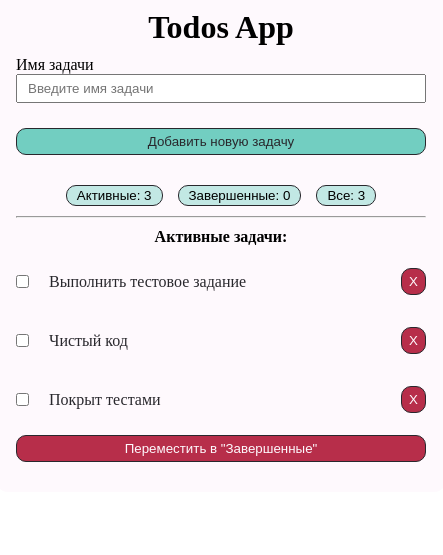
Test: TodosContent component › checking tasks after preccing buttons: All, Active, Completed
Expected: the number of checkboxes is 3, [16,275,29,288]; [16,334,29,347]; [16,393,29,406]
Click the button "Все: 3": (346, 196) [316,185,376,206]
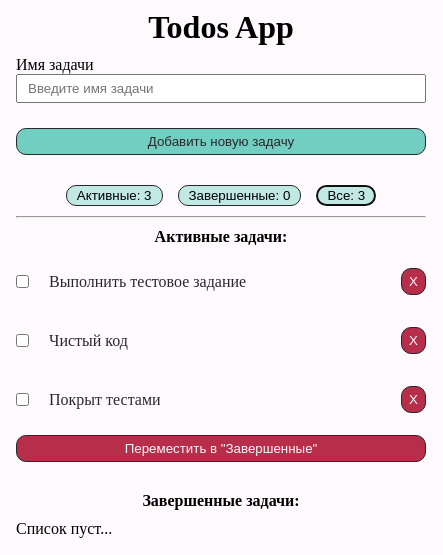
Expected: the number of checkboxes is 3, [16,275,29,288]; [16,334,29,347]; [16,393,29,406]
Click the button "Завершенные: 0": (239, 196) [178,185,301,206]
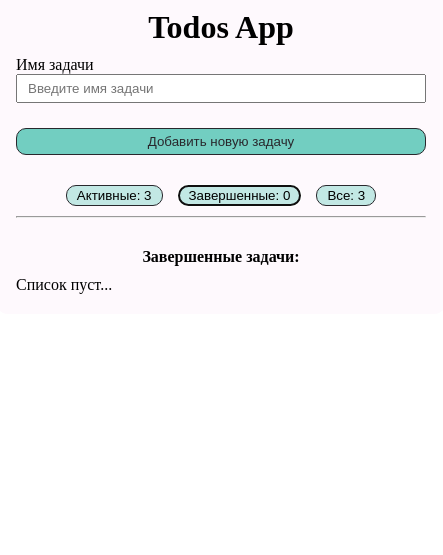
Expected: the text "Список пуст..." is shown, [16,276,112,293]
Click the button "Активные: 3": (114, 196) [66,185,162,206]
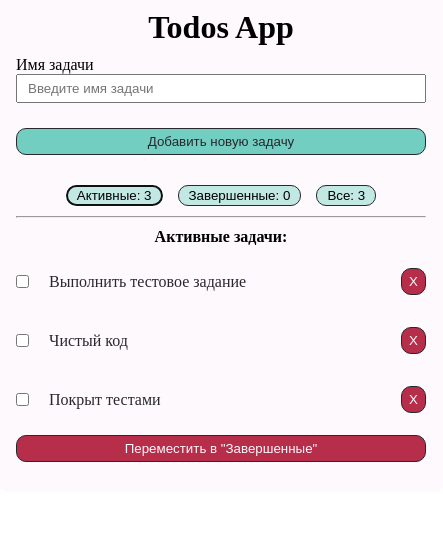
Expected: the number of checkboxes is 3, [16,275,29,288]; [16,334,29,347]; [16,393,29,406]
